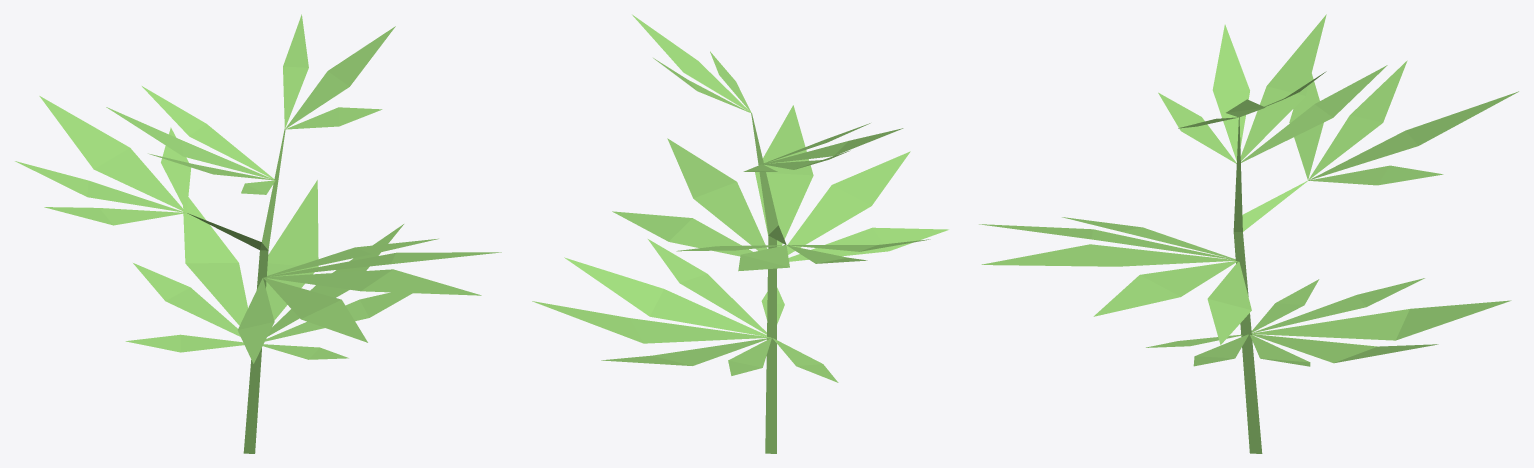
The model's file is Plant_i_TwoS_06.fbx.
3 views of the same model, side by side, from view 1: azimuth 30°, elevation 25°; view 2: azimuth 150°, elevation 25°; view 3: azimuth 270°, elevation 25° (orthographic). The views are drawn at different scales.
Visible parts, largest first — view 1: Plant_i_TwoS_06; view 2: Plant_i_TwoS_06; view 3: Plant_i_TwoS_06.
Boxes of the visible parts, x1,y1,x2,y2 form: Plant_i_TwoS_06: (15, 14, 501, 453); Plant_i_TwoS_06: (532, 14, 948, 453); Plant_i_TwoS_06: (979, 14, 1518, 453).
Size of the model in its own units: 0.4542 by 0.4735 by 0.5428.
